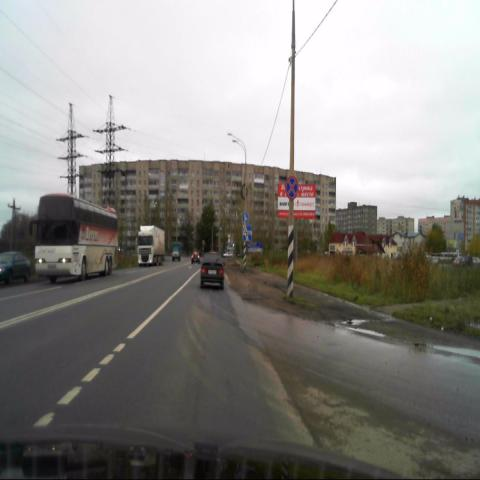3_27: (285, 176, 298, 200)
4_1_4: (242, 213, 248, 223)
